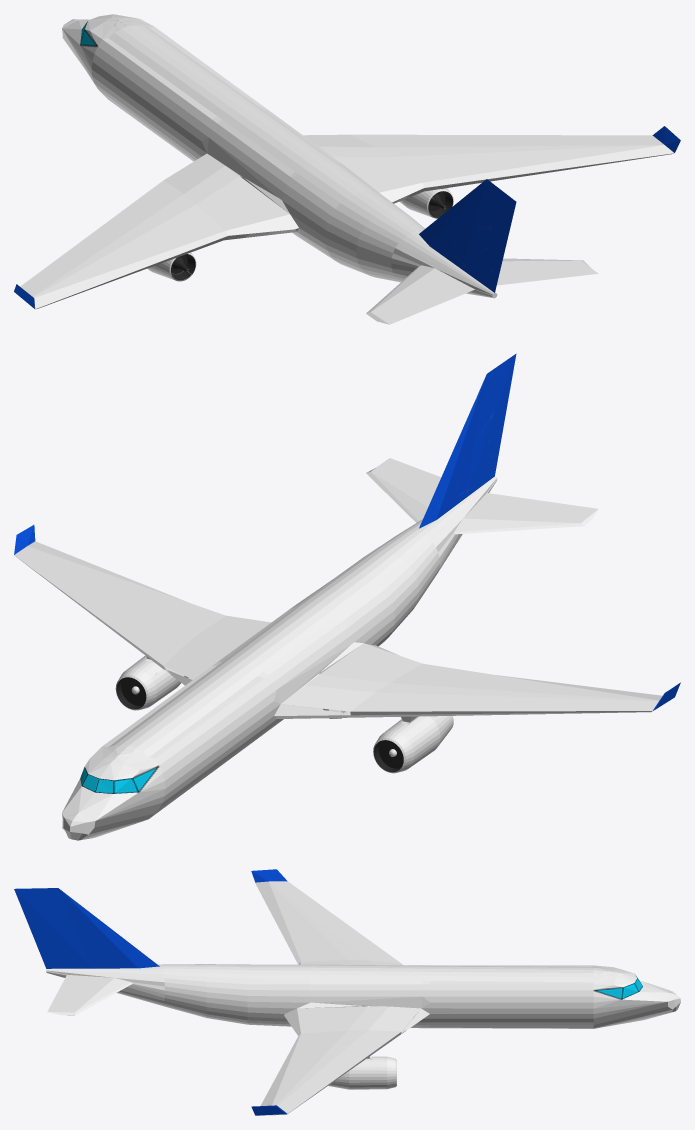
File: airplane_ff77cb8d.glb
3 renders of one model, top to bottom at view 1: azimuth 30°, elevation 25°; view 2: azimuth 150°, elevation 25°; view 3: azimuth 270°, elevation 25°, orthographic. The views are drawn at different scales.
Parts seen in each view (by area): view 1: Cube_0; view 2: Cube_0; view 3: Cube_0.
Part boxes in pixels (x1,y1,x2,y2): Cube_0: [14, 14, 680, 324]; Cube_0: [14, 353, 680, 840]; Cube_0: [14, 869, 680, 1115].
Bounding box in the file's own units: 17.59 × 5.33 × 21.
1 material, 1 textured.
